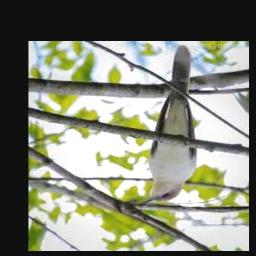Cuckoo: (141, 46, 196, 203)
